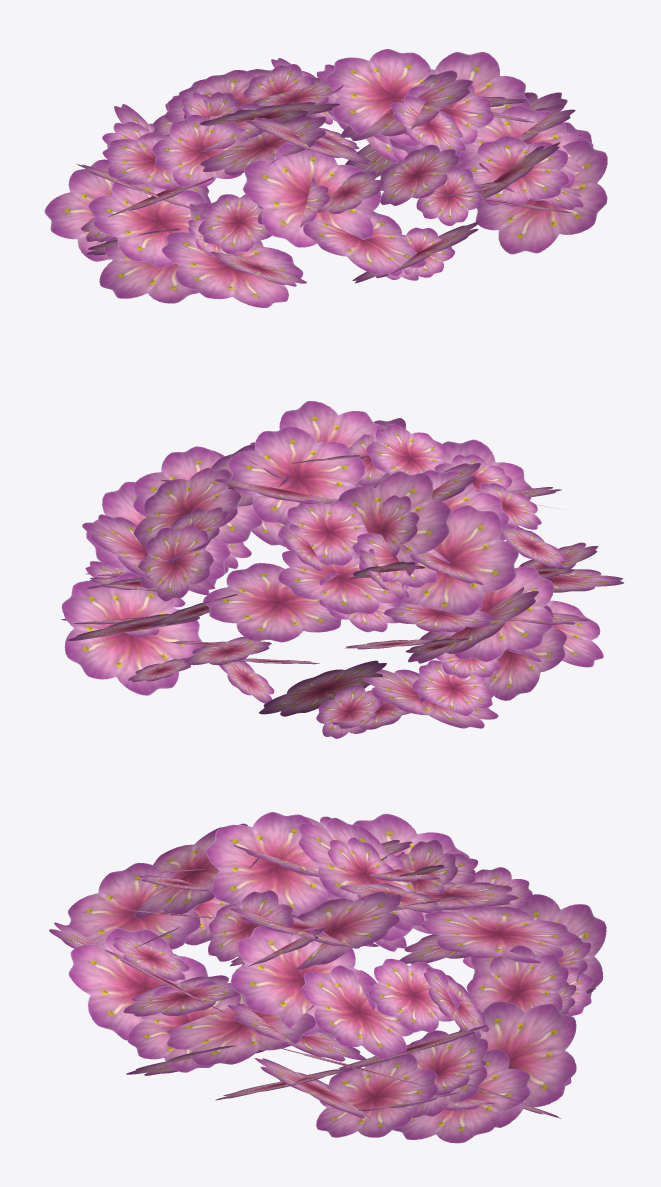
File: fleurs_sakura.fbx
The picture shows the model from 3 angles, top to bottom: view 1: azimuth 30°, elevation 25°; view 2: azimuth 150°, elevation 25°; view 3: azimuth 270°, elevation 25°; orthographic projection. The views are drawn at different scales.
Parts seen in each view (by area): view 1: fleurs_sakura; view 2: fleurs_sakura; view 3: fleurs_sakura.
Boxes of the visible parts, x1,y1,x2,y2 form: fleurs_sakura: (44, 49, 607, 307); fleurs_sakura: (61, 401, 623, 738); fleurs_sakura: (49, 812, 606, 1143).
Bounding box in the file's own units: 435 × 178 × 418.
